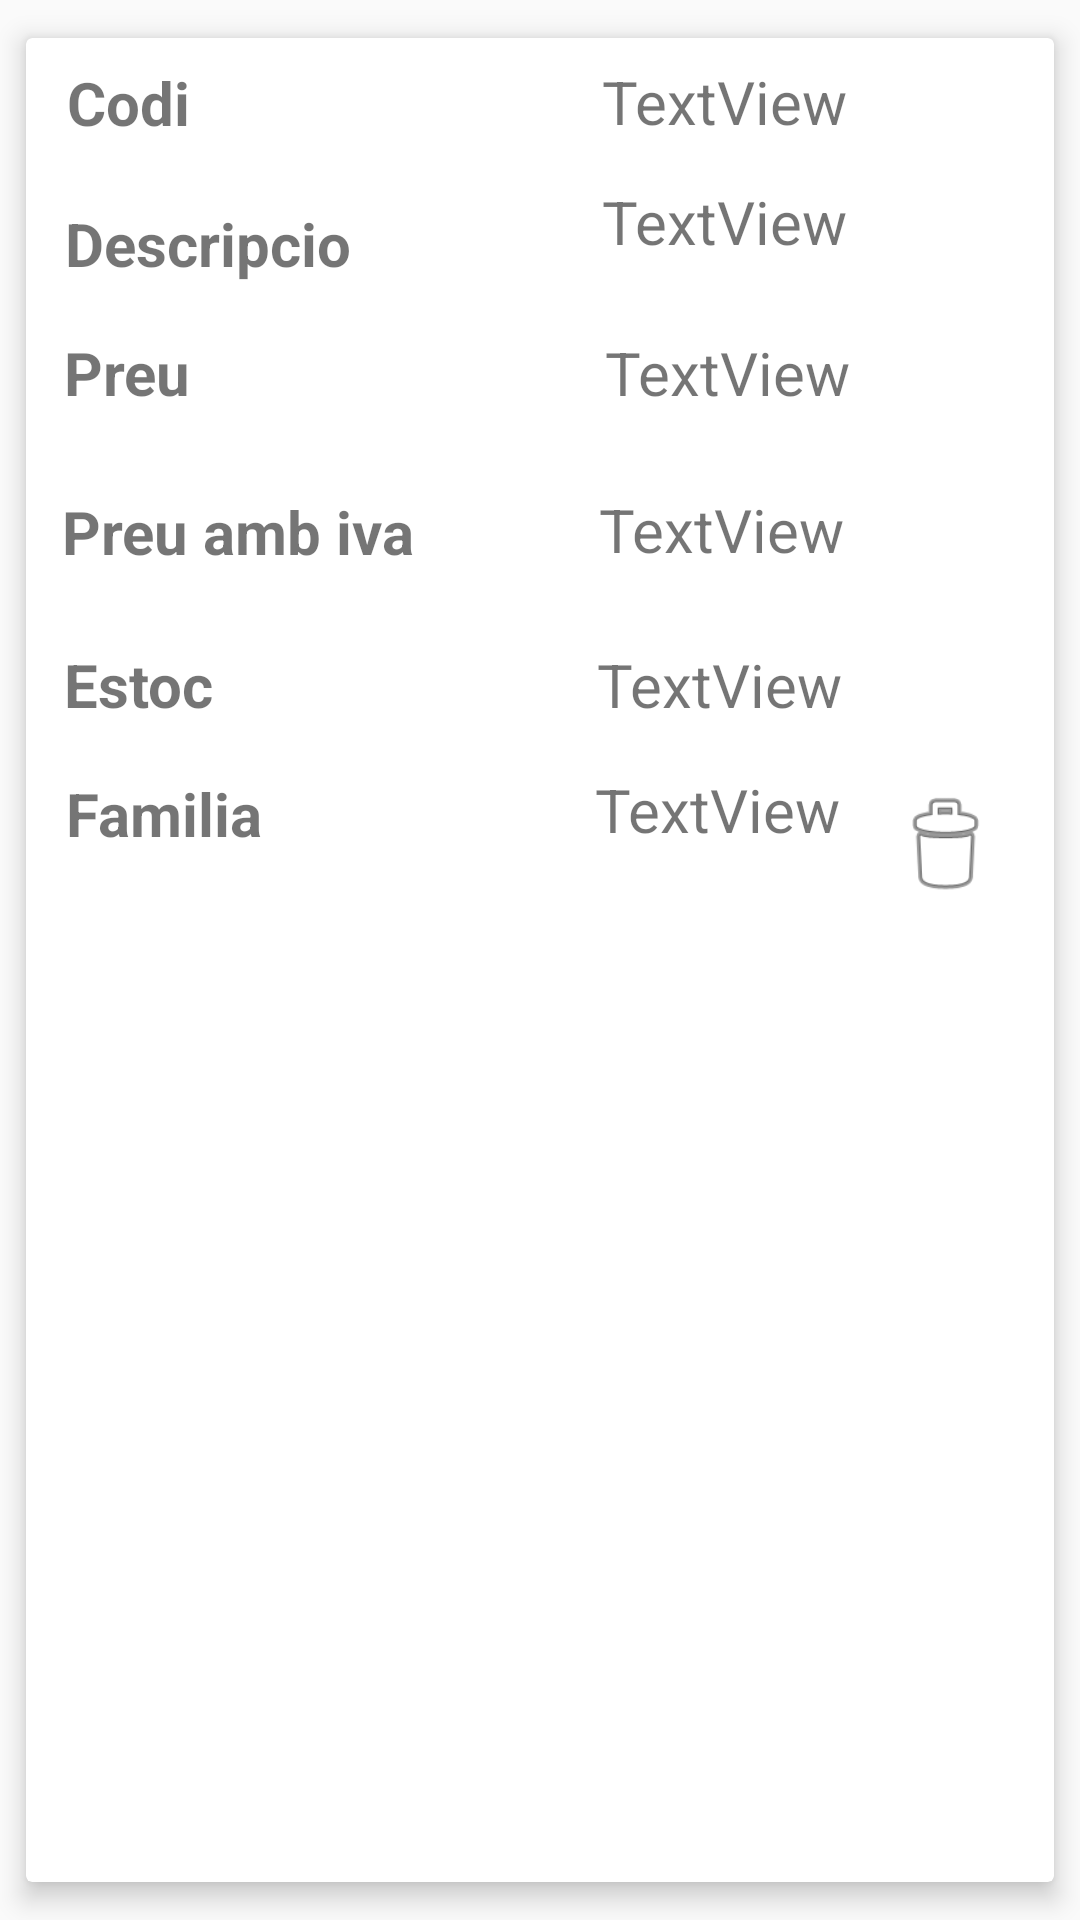

Icons on this 1080px x 1920px Android screen, each with its box as (x1, y1, x2, y2):
delete: (912, 798, 979, 890)
